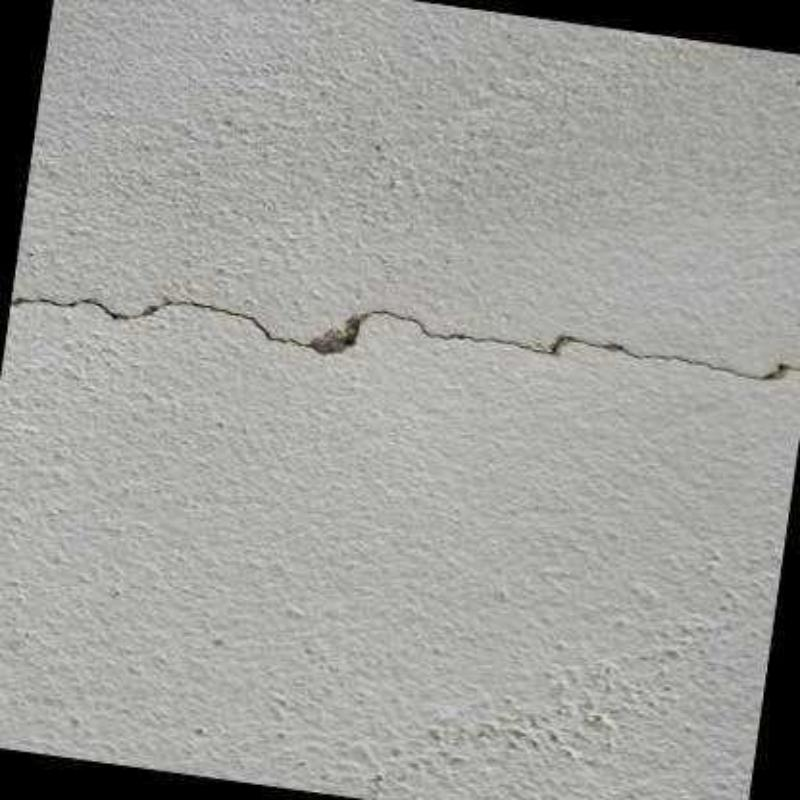pothole: (12, 296, 800, 381)
